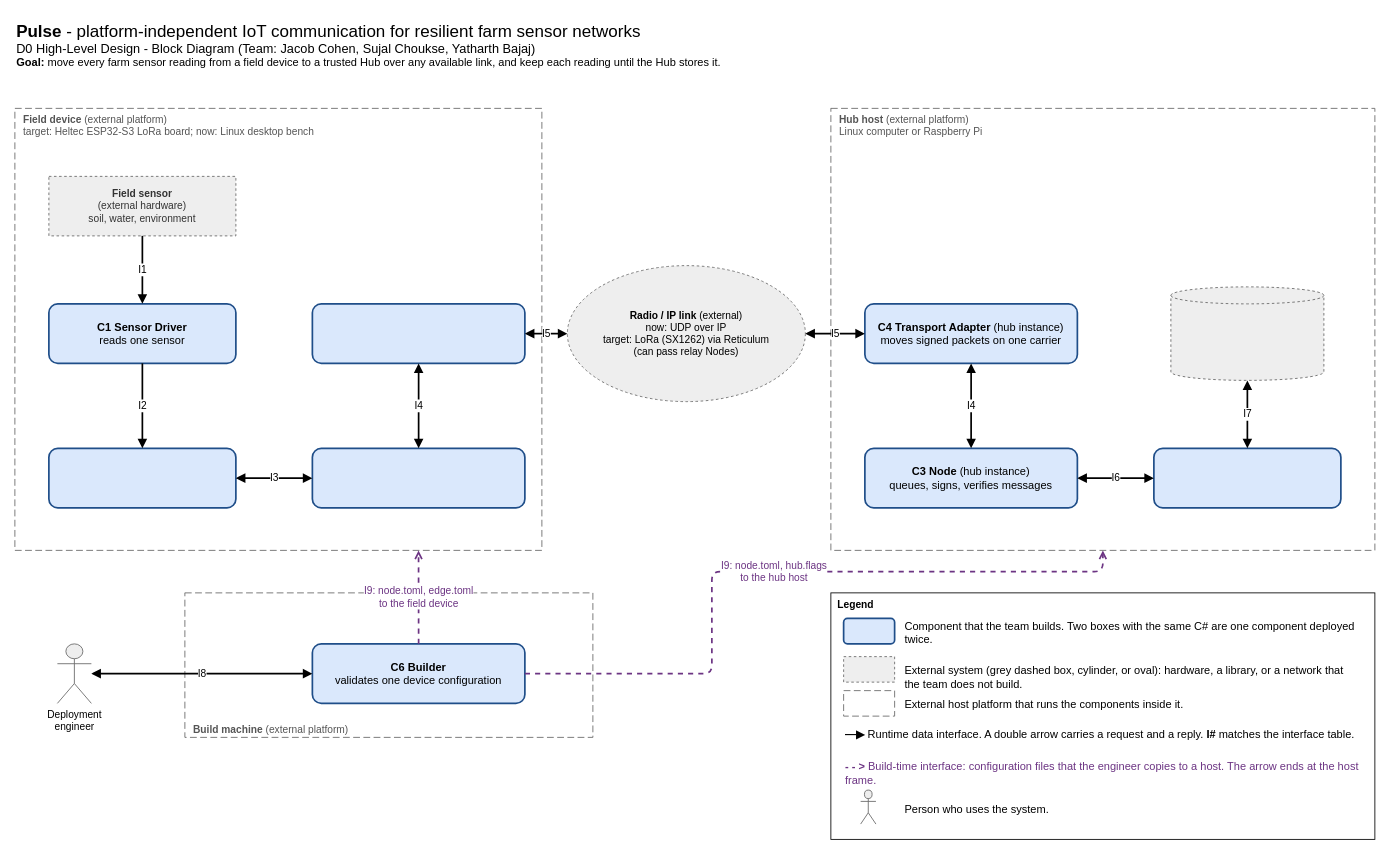
This 1390x854 diagram has some shape labels left out. Each missing label, with the centre of its shape:
"C#" goes at point (868, 630).
"C2 Edge packages samples on a schedule" goes at point (142, 477).
"C3 Node (field instance) queues, signs, verifies messages" goes at point (418, 477).
"C4 Transport Adapter (field instance) moves signed packets on one carrier" goes at point (418, 333).
"C5 Hub stores validated readings" goes at point (1247, 477).
"SQLite database (external library) table readings" goes at point (1247, 333).
